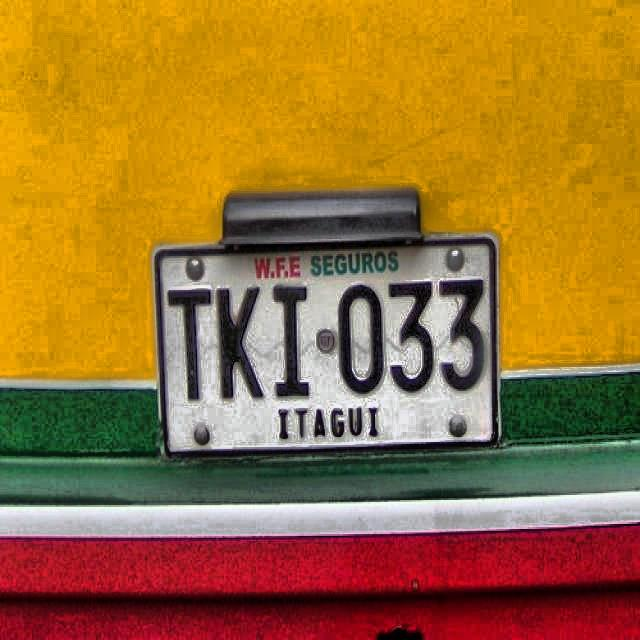plate: (157, 236, 496, 453)
